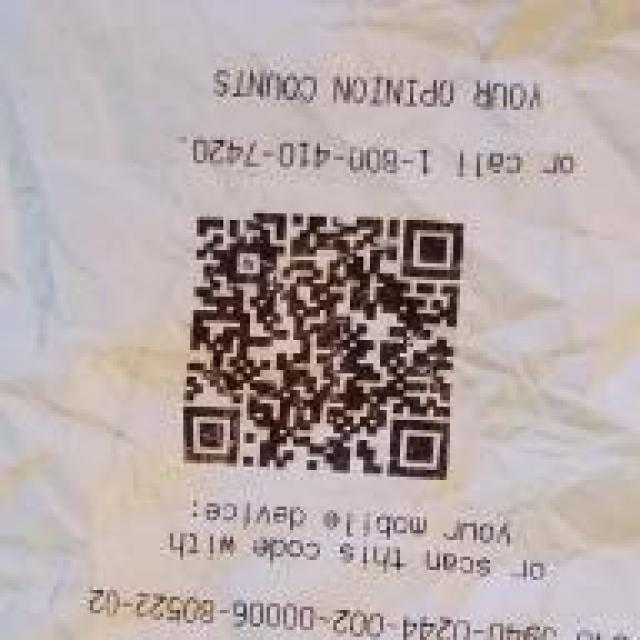qr_code: (182, 211, 464, 478)
